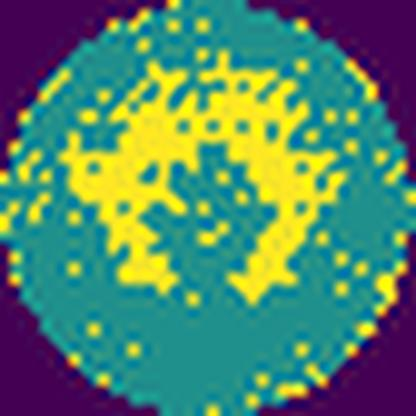Donut: (57, 41, 352, 312)
